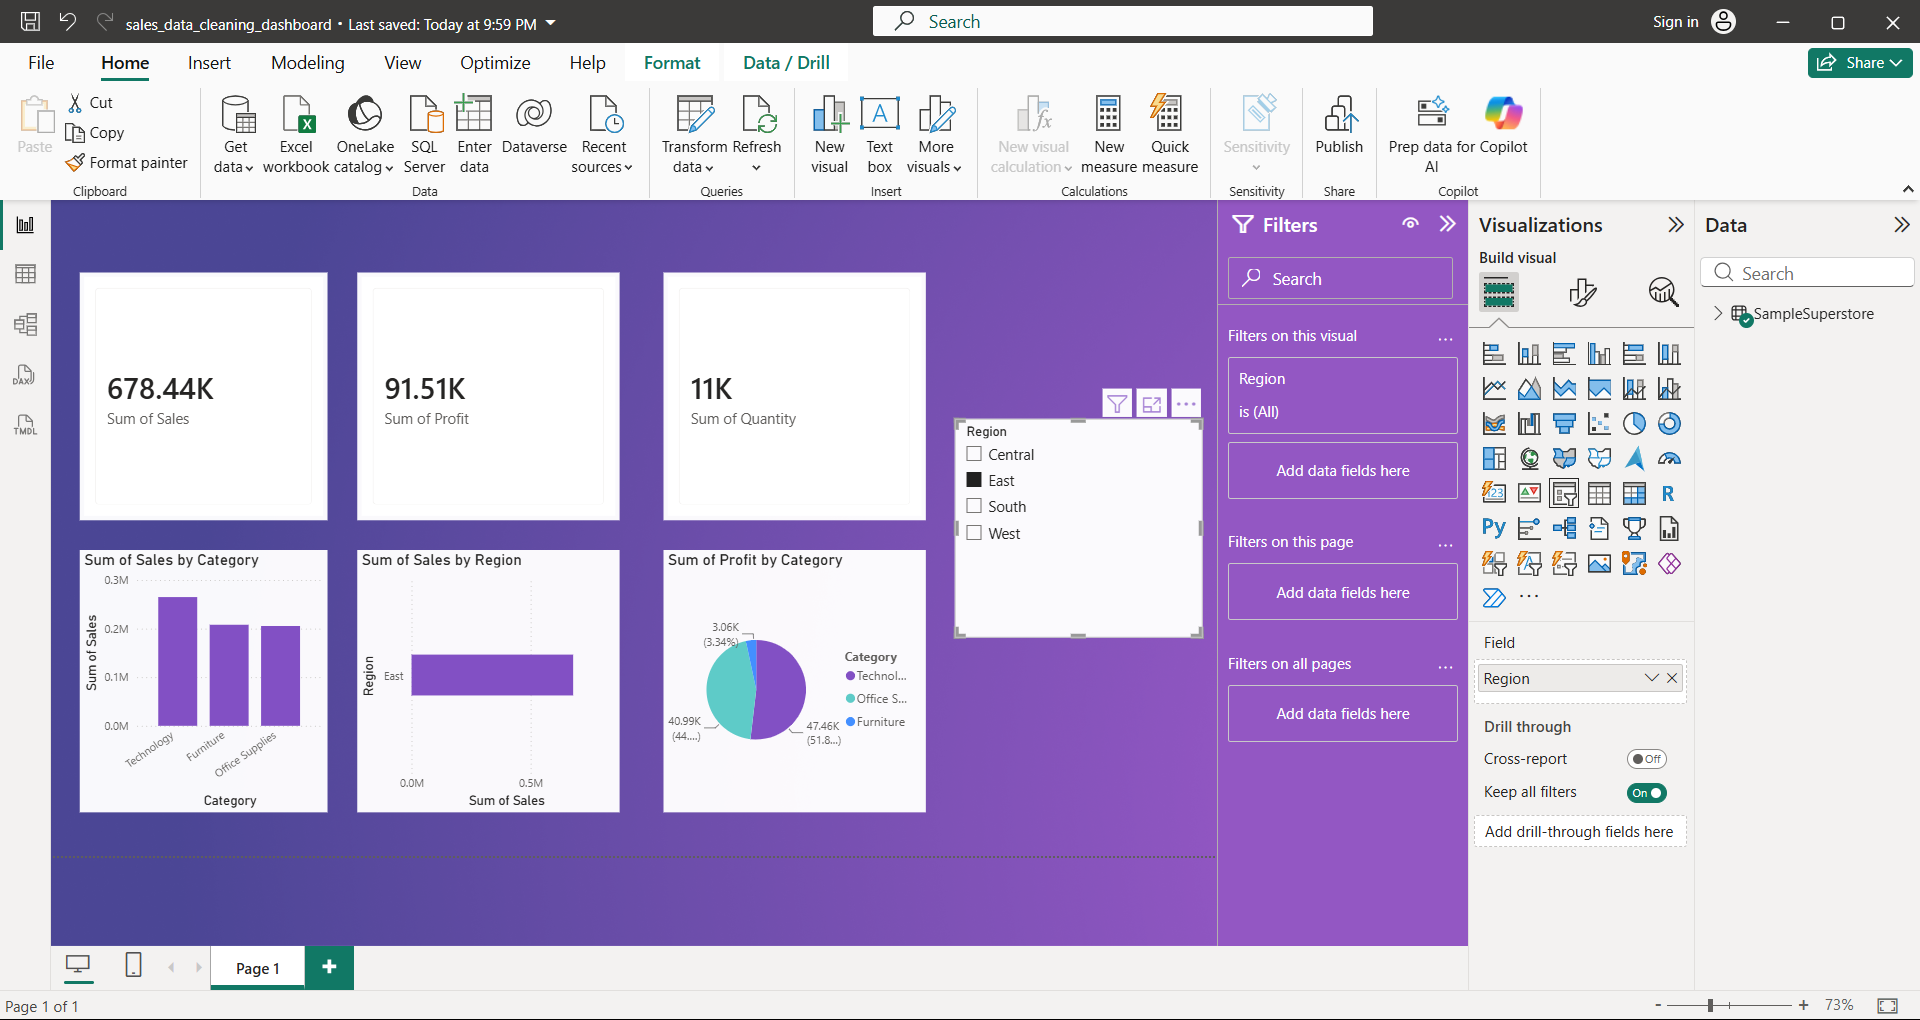

This screenshot's page, from the dashboard's own definition file:
{"tool":"powerbi","page":{"name":"Page 1","canvas":[1280,720],"ordinal":0},"visuals":[{"type":"cardVisual","fields":{"Data":["Sum(SampleSuperstore.Sales)"]},"box":[32,80,272,272],"z":0},{"type":"cardVisual","fields":{"Data":["Sum(SampleSuperstore.Profit)"]},"box":[336,80,288,272],"z":1000},{"type":"cardVisual","fields":{"Data":["Sum(SampleSuperstore.Quantity)"]},"box":[672,80,288,272],"z":2000},{"type":"clusteredColumnChart","fields":{"Category":["SampleSuperstore.Category"],"Y":["Sum(SampleSuperstore.Sales)"]},"box":[32,384,272,288],"z":2001},{"type":"clusteredBarChart","fields":{"Category":["SampleSuperstore.Region"],"Y":["Sum(SampleSuperstore.Sales)"]},"box":[336,384,288,288],"z":2002},{"type":"pieChart","fields":{"Category":["SampleSuperstore.Category"],"Y":["Sum(SampleSuperstore.Profit)"]},"box":[672,384,288,288],"z":2003},{"type":"slicer","fields":{"Values":["SampleSuperstore.Region"]},"box":[992,240,272,240],"z":2004}]}

Visuals, with their boxes on the page's 1280x720 design canvas (x1, y1, x2, y2). These are canvas units, not pixel positions in the 1920x1020 screenshot, which may show the page scaled, cropped or inside an application window:
cardVisual - Sum(SampleSuperstore.Sales): 32 80 304 352
cardVisual - Sum(SampleSuperstore.Profit): 336 80 624 352
cardVisual - Sum(SampleSuperstore.Quantity): 672 80 960 352
clusteredColumnChart - SampleSuperstore.Category x Sum(SampleSuperstore.Sales): 32 384 304 672
clusteredBarChart - SampleSuperstore.Region x Sum(SampleSuperstore.Sales): 336 384 624 672
pieChart - SampleSuperstore.Category x Sum(SampleSuperstore.Profit): 672 384 960 672
slicer - SampleSuperstore.Region: 992 240 1264 480
